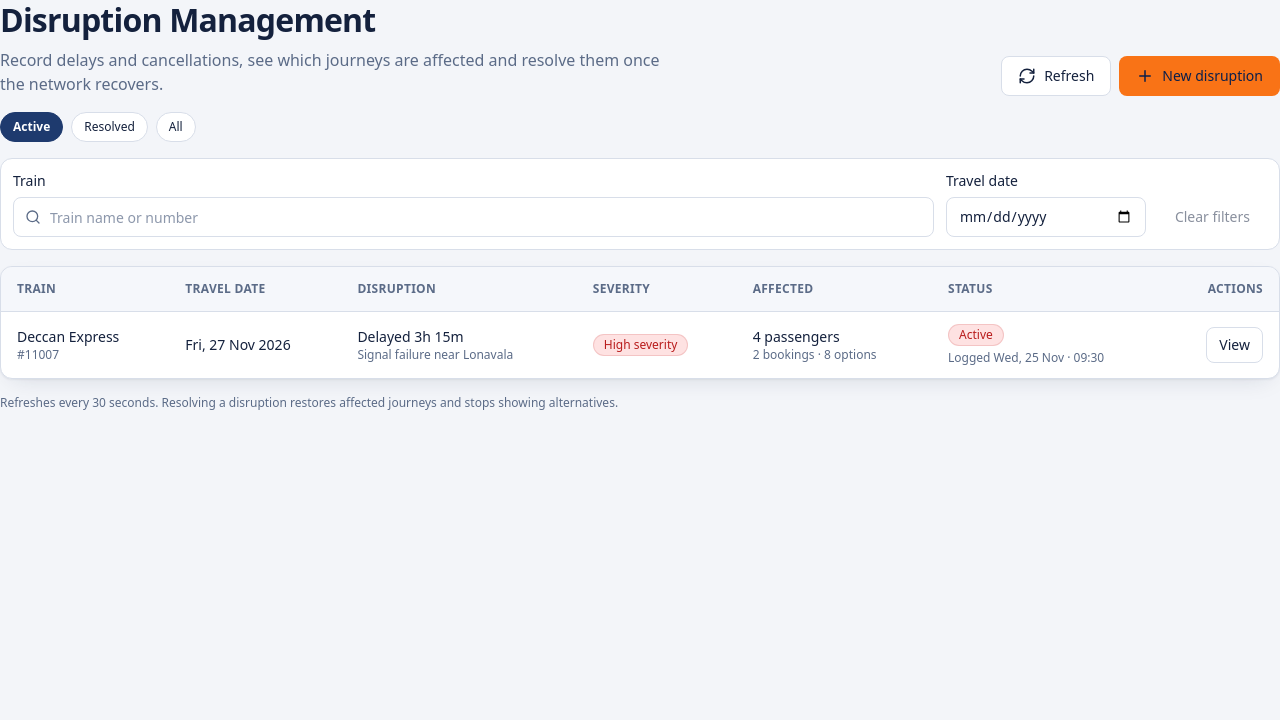
Test: Admin disruption management › previews affected passengers and creates the disruption
The image size is (1280, 720).
Click the button "New disruption" at x=1200, y=76, box [1119,56,1279,96]
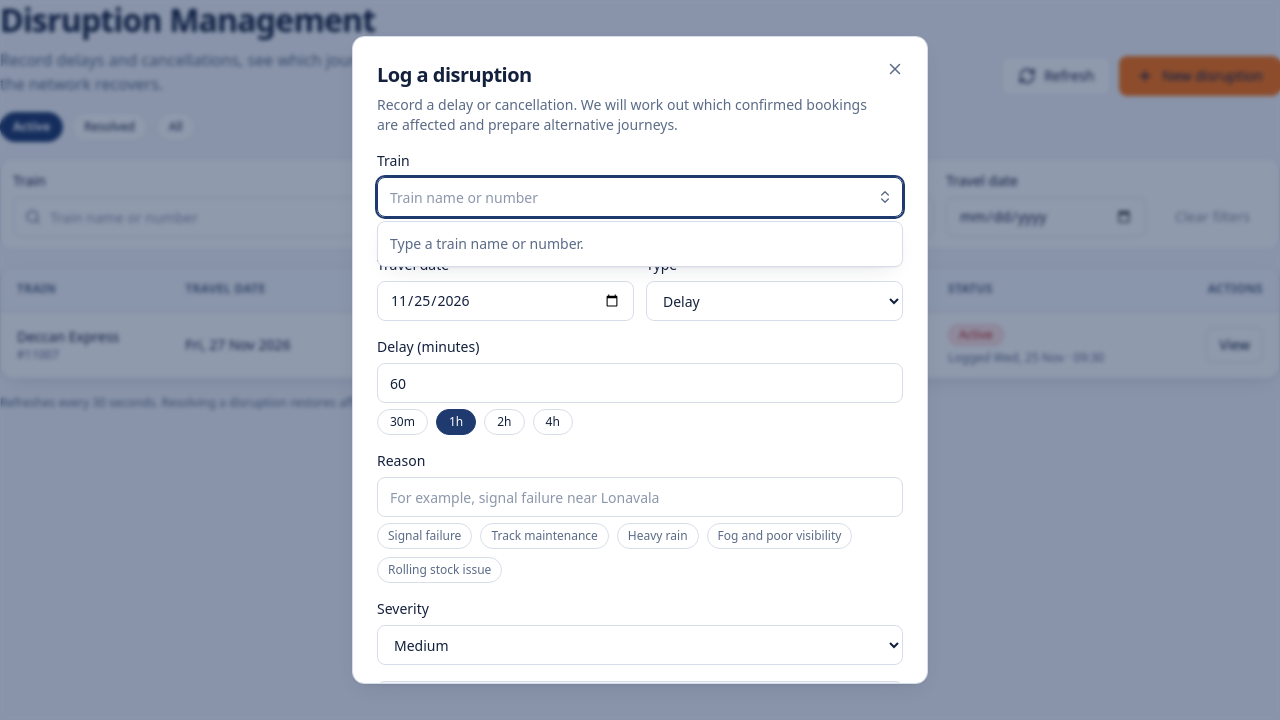
Type "11007" into the dropdown labelled "Train" at x=640, y=197, box [377,177,903,217]
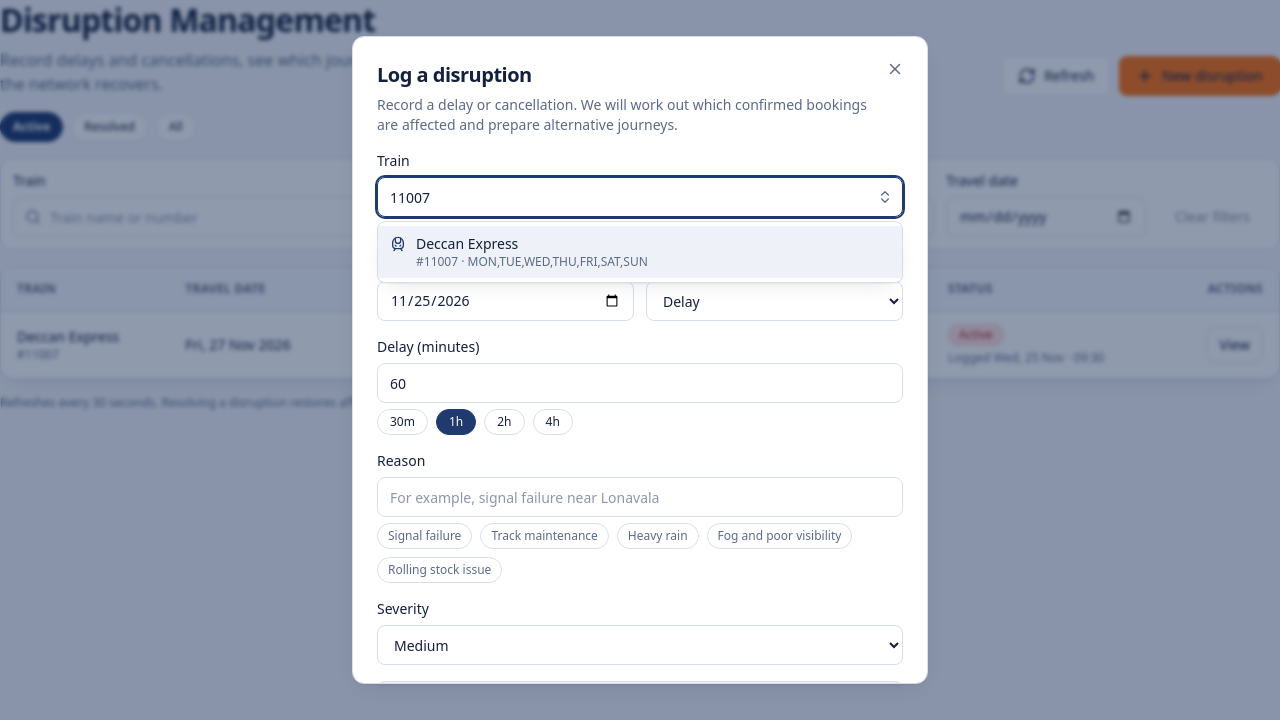
Click the text "Deccan Express" at x=467, y=244, box [416,234,518,253]
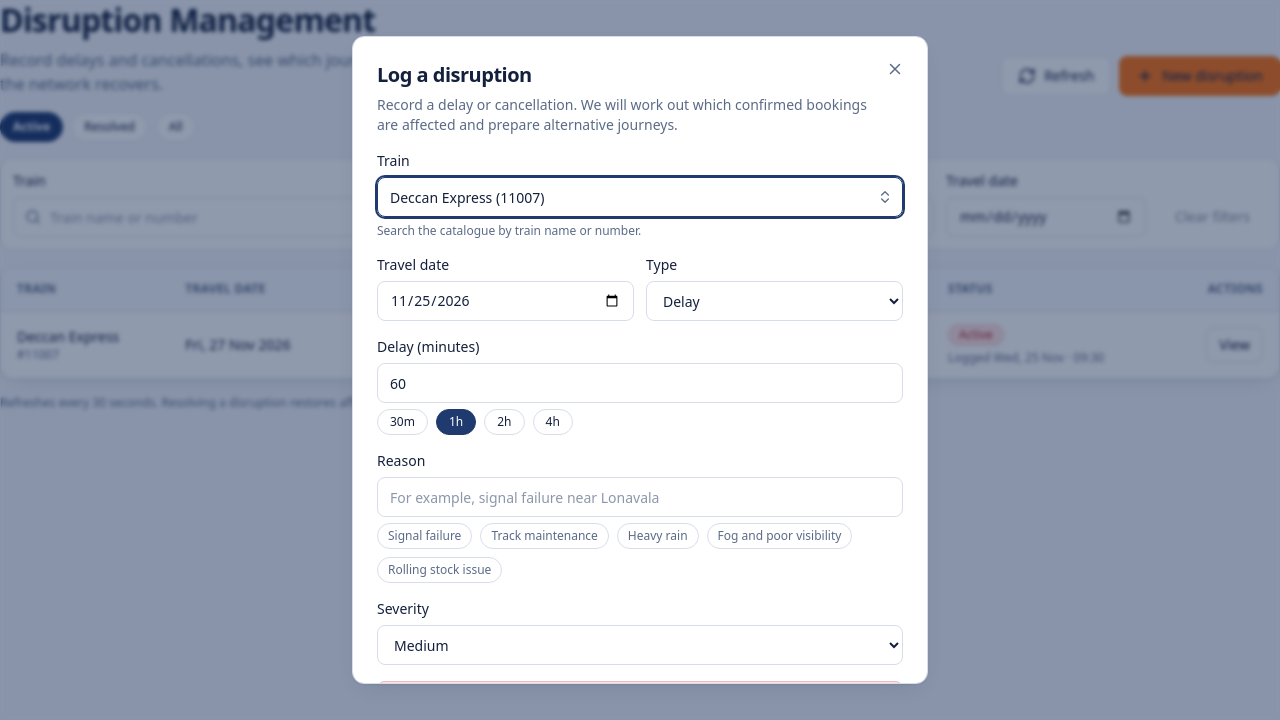
Type "Signal failure near Lonavala" into the field labelled "Reason" at x=640, y=497, box [377,477,903,517]
(page scrolled)
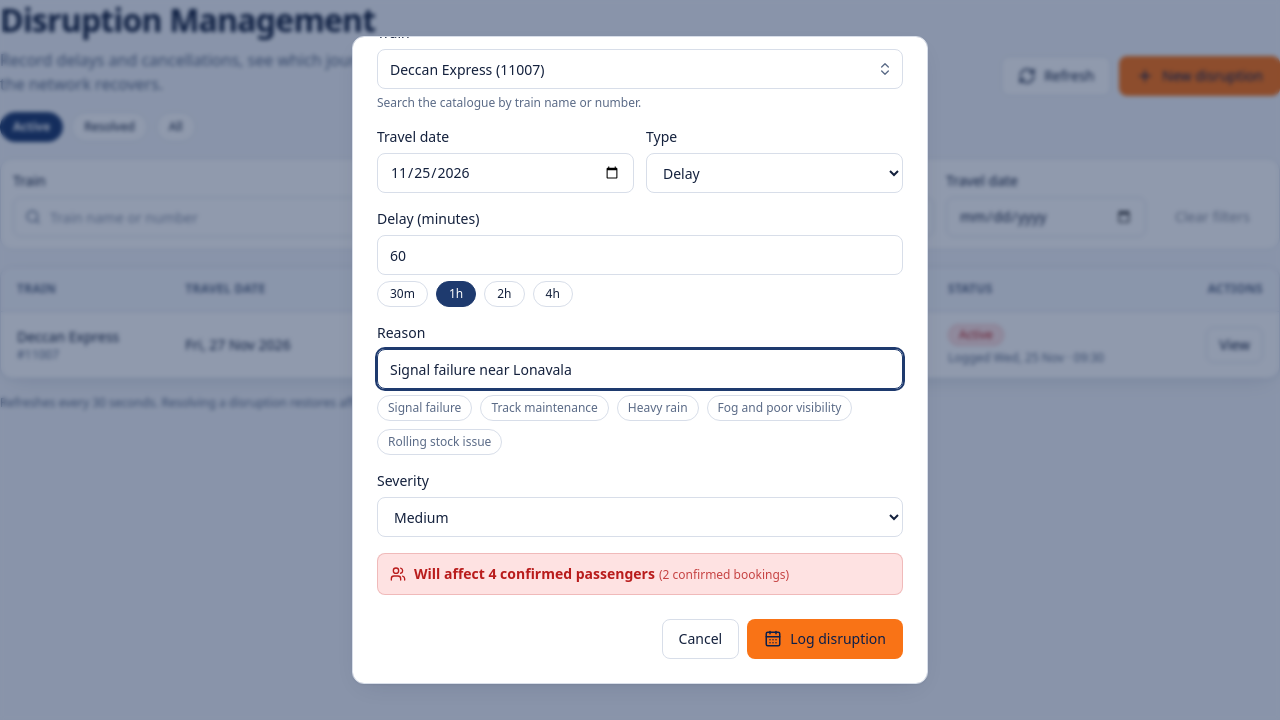
Click the button "Log disruption" at x=825, y=639, box [747,619,903,659]
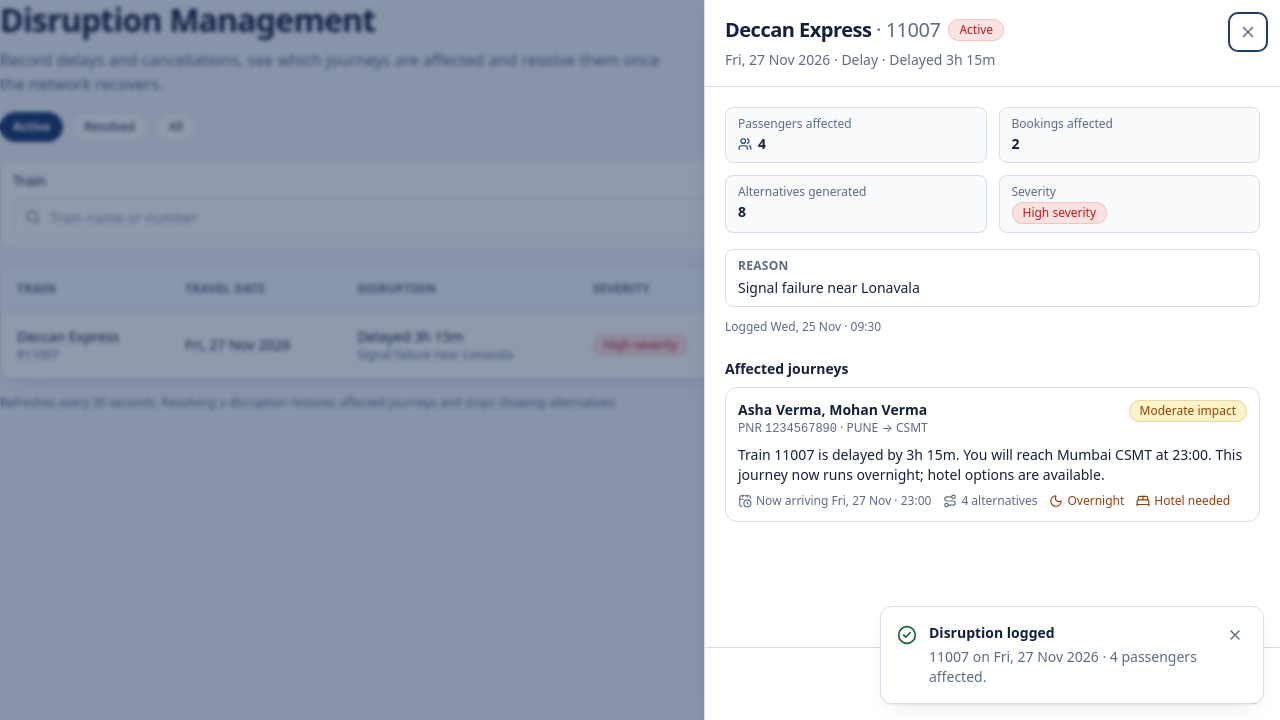
Now the text "Disruption logged" is shown, box [929,623,1055,642]
Now the heading "Affected journeys" is shown, box [725,359,848,378]
